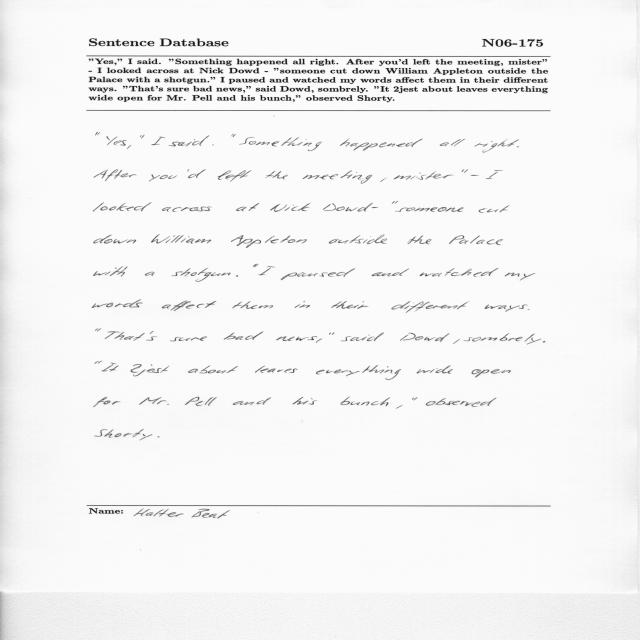word: (316, 365, 401, 380), (240, 137, 323, 151), (340, 138, 423, 151), (231, 235, 307, 248), (303, 170, 372, 184), (391, 301, 469, 313), (464, 333, 541, 345), (281, 269, 355, 281), (172, 268, 231, 282), (420, 268, 499, 277), (95, 430, 153, 441), (474, 139, 519, 153), (426, 398, 496, 407), (394, 171, 454, 180), (151, 235, 211, 244), (449, 235, 503, 245), (162, 301, 216, 311), (94, 203, 152, 212), (329, 235, 387, 244), (131, 364, 170, 376), (94, 170, 136, 181), (169, 136, 210, 147), (400, 333, 450, 342), (341, 397, 390, 406), (218, 170, 252, 182), (92, 300, 143, 308), (105, 331, 145, 341), (188, 366, 238, 374), (341, 333, 384, 342), (94, 235, 136, 244), (94, 266, 128, 277), (270, 203, 311, 212), (224, 331, 264, 340), (396, 207, 464, 212), (255, 365, 297, 373), (416, 365, 453, 374), (232, 301, 273, 309), (471, 369, 511, 377), (233, 397, 271, 405), (485, 305, 528, 312), (372, 269, 409, 277), (331, 301, 368, 309), (185, 397, 217, 406), (323, 204, 358, 212), (94, 397, 121, 407), (162, 207, 212, 212), (479, 205, 509, 213), (505, 273, 535, 281), (139, 397, 169, 405), (149, 174, 177, 182), (408, 236, 432, 245), (106, 136, 127, 146), (127, 135, 142, 149), (276, 336, 317, 341), (440, 139, 465, 147), (293, 397, 317, 405), (170, 337, 207, 342), (265, 171, 288, 179), (236, 203, 259, 211), (358, 203, 378, 212), (187, 170, 206, 179), (316, 332, 331, 343), (101, 363, 119, 372), (486, 170, 503, 179), (258, 266, 275, 275), (152, 137, 166, 145), (146, 331, 157, 341), (295, 301, 310, 308), (145, 271, 155, 276), (453, 339, 460, 344), (380, 178, 387, 182), (396, 405, 403, 409), (95, 361, 102, 364), (231, 134, 236, 138), (253, 264, 258, 268), (412, 397, 417, 401), (462, 170, 468, 173), (392, 201, 398, 204), (95, 329, 101, 332), (141, 135, 145, 139), (96, 132, 100, 135), (471, 175, 480, 176), (332, 332, 335, 335), (543, 341, 546, 343), (517, 146, 519, 148), (236, 275, 238, 277), (212, 145, 214, 146), (158, 437, 160, 438), (528, 309, 529, 310)
